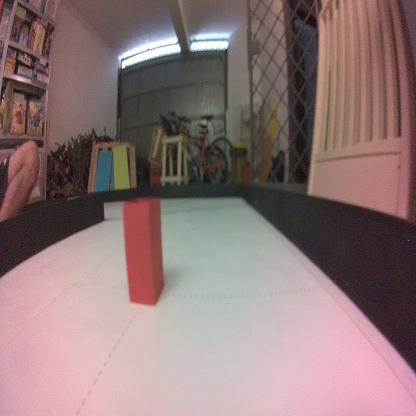red: (122, 197, 166, 309)
